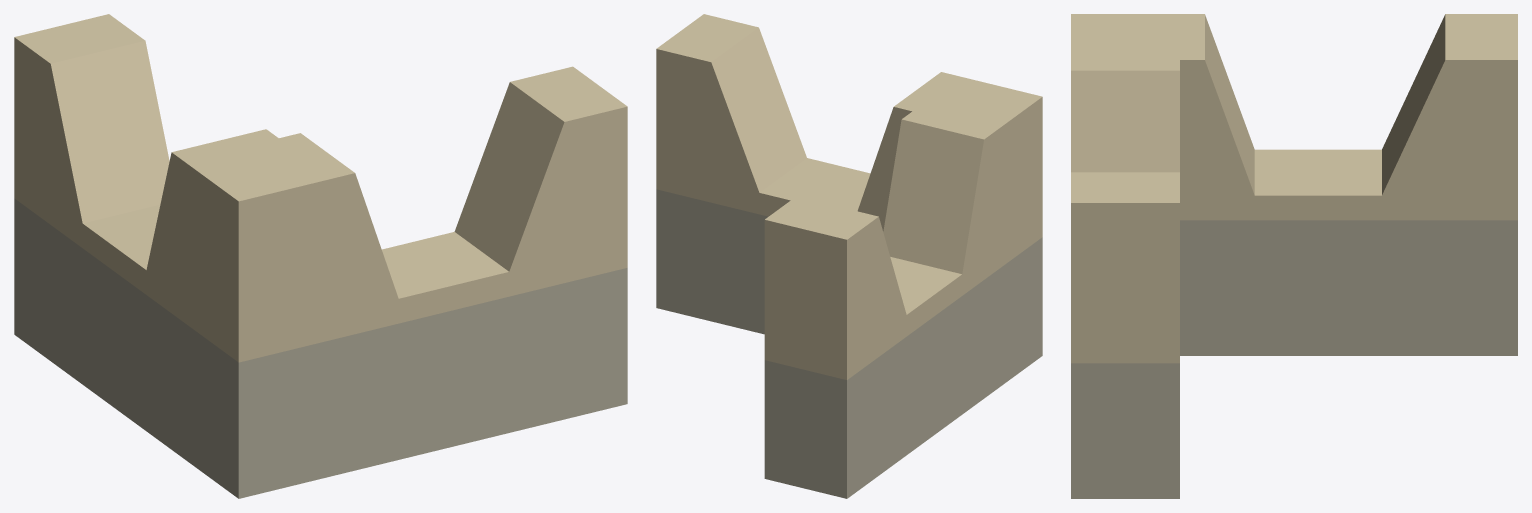
The model's file is battlement_corner.glb.
The picture shows the model from 3 angles, left to right: view 1: azimuth 30°, elevation 25°; view 2: azimuth 150°, elevation 25°; view 3: azimuth 270°, elevation 25°; orthographic projection. The views are drawn at different scales.
Visible parts, largest first — view 1: Battlement corner; view 2: Battlement corner; view 3: Battlement corner.
Part boxes in pixels (box(x1,y1,x2,y2)): Battlement corner: box(14, 14, 627, 498); Battlement corner: box(656, 14, 1042, 498); Battlement corner: box(1071, 14, 1517, 498).
Size of the model in its own units: 0.985 by 0.72 by 0.985.
